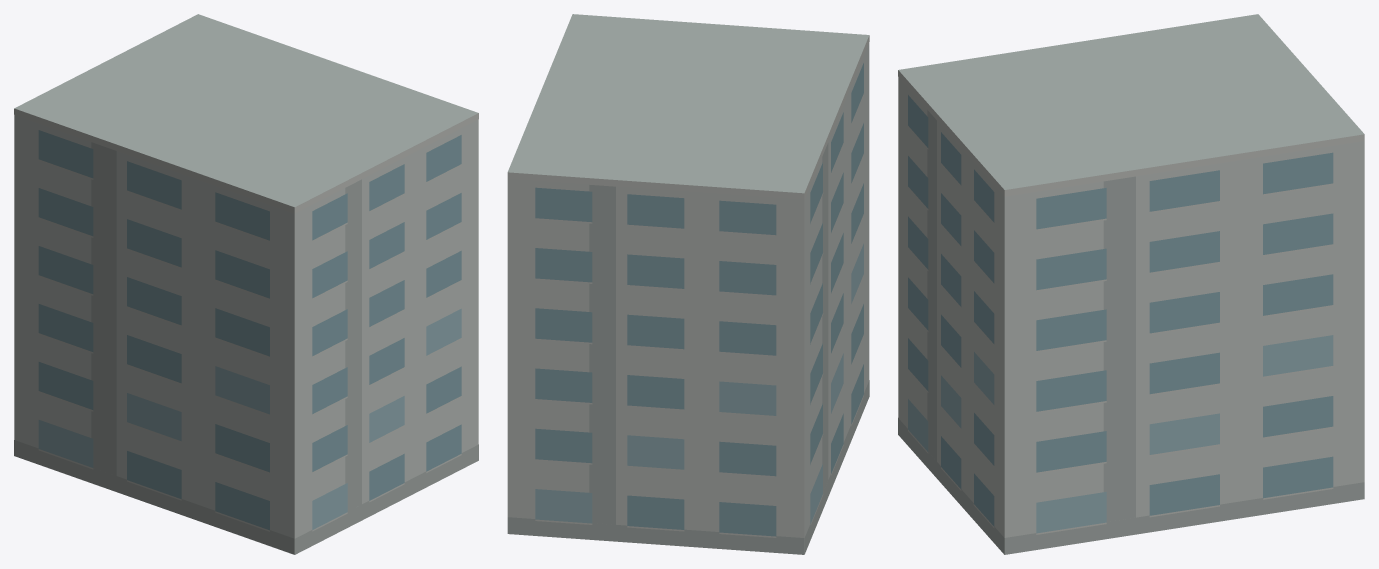
Rendered from survey-upis-32851434.glb.
3 renders of one model, left to right at view 1: azimuth 30°, elevation 25°; view 2: azimuth 150°, elevation 25°; view 3: azimuth 270°, elevation 25°, orthographic. The views are drawn at different scales.
Visible parts, largest first — view 1: survey-upis-32851434.tmp; view 2: survey-upis-32851434.tmp; view 3: survey-upis-32851434.tmp.
Boxes of the visible parts, x1=… form: survey-upis-32851434.tmp: x1=14, y1=14, x2=478, y2=554; survey-upis-32851434.tmp: x1=507, y1=14, x2=869, y2=554; survey-upis-32851434.tmp: x1=898, y1=14, x2=1364, y2=554.
Bounding box in the file's own units: 13.67 × 13.2 × 15.31.
